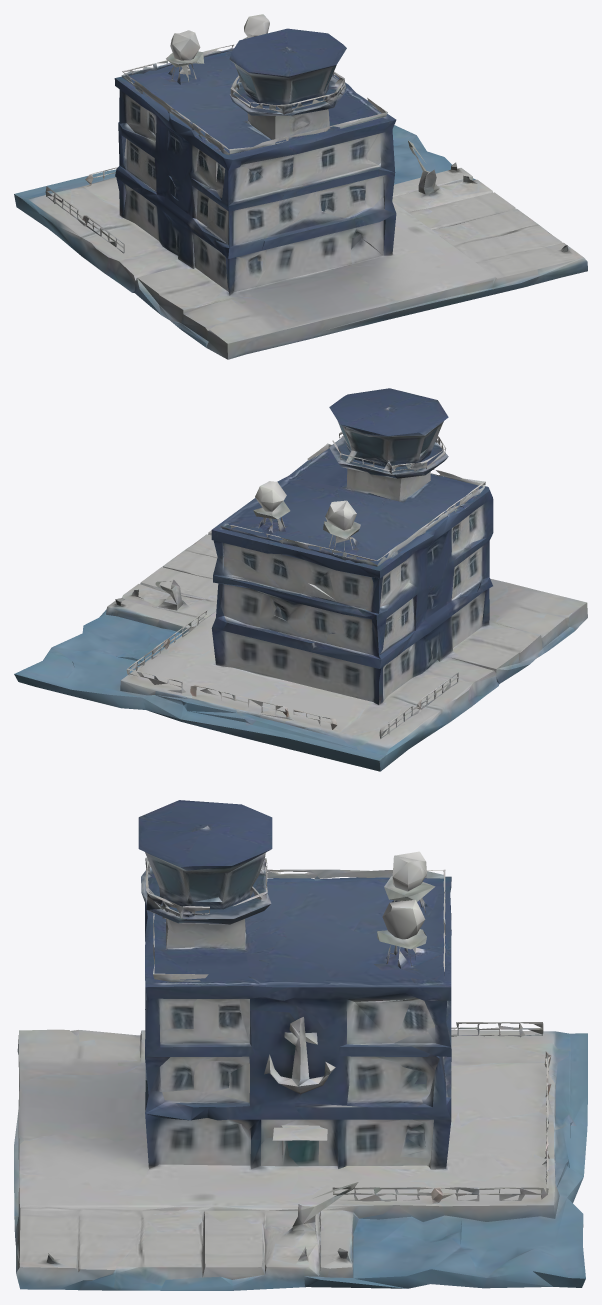
Rendered from predio_marinha.glb.
The picture shows the model from 3 angles, top to bottom: view 1: azimuth 30°, elevation 25°; view 2: azimuth 150°, elevation 25°; view 3: azimuth 270°, elevation 25°; orthographic projection. The views are drawn at different scales.
Visible parts, largest first — view 1: tripo_node_56c1150d-ba5b-4649-91b6-dac0a8da47f3; view 2: tripo_node_56c1150d-ba5b-4649-91b6-dac0a8da47f3; view 3: tripo_node_56c1150d-ba5b-4649-91b6-dac0a8da47f3.
Part boxes in pixels (bbox=[...]): tripo_node_56c1150d-ba5b-4649-91b6-dac0a8da47f3: bbox=[14, 14, 587, 359]; tripo_node_56c1150d-ba5b-4649-91b6-dac0a8da47f3: bbox=[14, 388, 587, 771]; tripo_node_56c1150d-ba5b-4649-91b6-dac0a8da47f3: bbox=[14, 800, 587, 1290].
Bounding box in the file's own units: 0.9995 × 0.5995 × 0.9999.
1 material, 1 textured.
